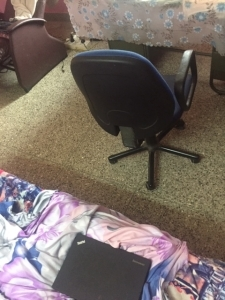chair: (70, 48, 201, 191)
